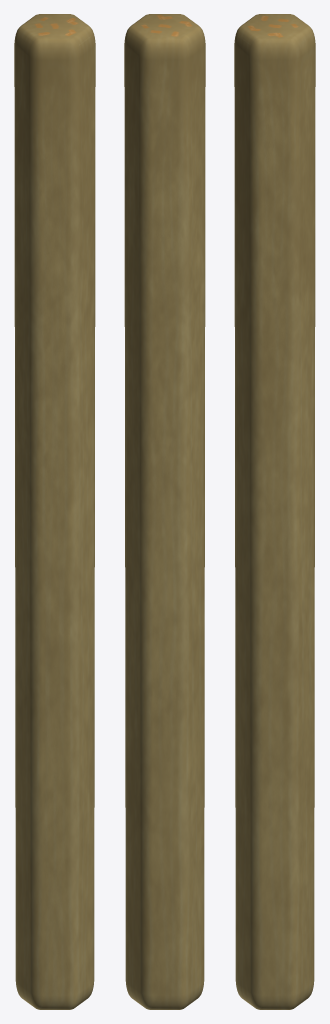
The model's file is Sand_Tex.fbx.
3 views of the same model, side by side, from view 1: azimuth 90°, elevation 25°; view 2: azimuth 150°, elevation 25°; view 3: azimuth 330°, elevation 25° (orthographic).
Parts seen in each view (by area): view 1: Sand_LP; view 2: Sand_LP; view 3: Sand_LP.
Part boxes in pixels (left/top/right/bottom): Sand_LP: left=14, top=14, right=95, bottom=1009; Sand_LP: left=124, top=14, right=205, bottom=1009; Sand_LP: left=234, top=14, right=315, bottom=1009.
Bounding box in the file's own units: 197 × 2839 × 215.
